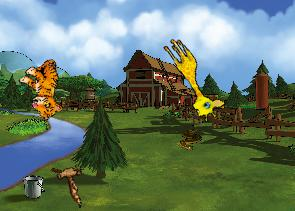eagle: (41, 152, 100, 208)
giraffe: (152, 34, 229, 125)
tiger: (12, 53, 79, 123)
